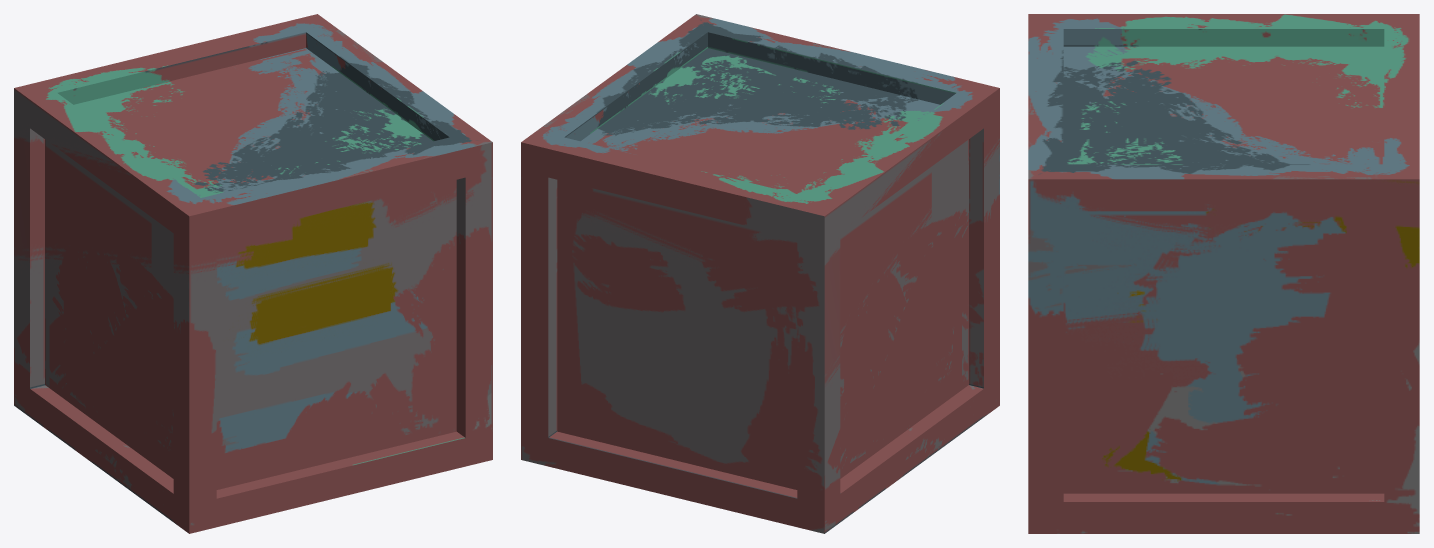
Rendered from caja_1.glb.
3 views of the same model, side by side, from view 1: azimuth 30°, elevation 25°; view 2: azimuth 150°, elevation 25°; view 3: azimuth 270°, elevation 25° (orthographic). The views are drawn at different scales.
Parts seen in each view (by area): view 1: Cube; view 2: Cube; view 3: Cube.
Part boxes in pixels (<box>): Cube: <box>14,14,492,533</box>; Cube: <box>521,14,999,533</box>; Cube: <box>1028,14,1419,533</box>.
Size of the model in its own units: 2 by 2 by 2.
Materials: 1 (1 with a texture image).
